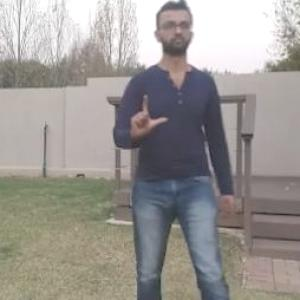land_hand: (128, 85, 178, 143)
